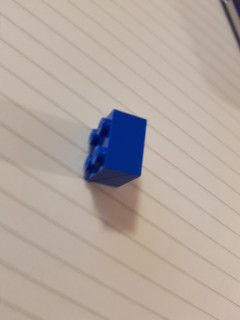2x2 blue: (80, 107, 149, 189)
